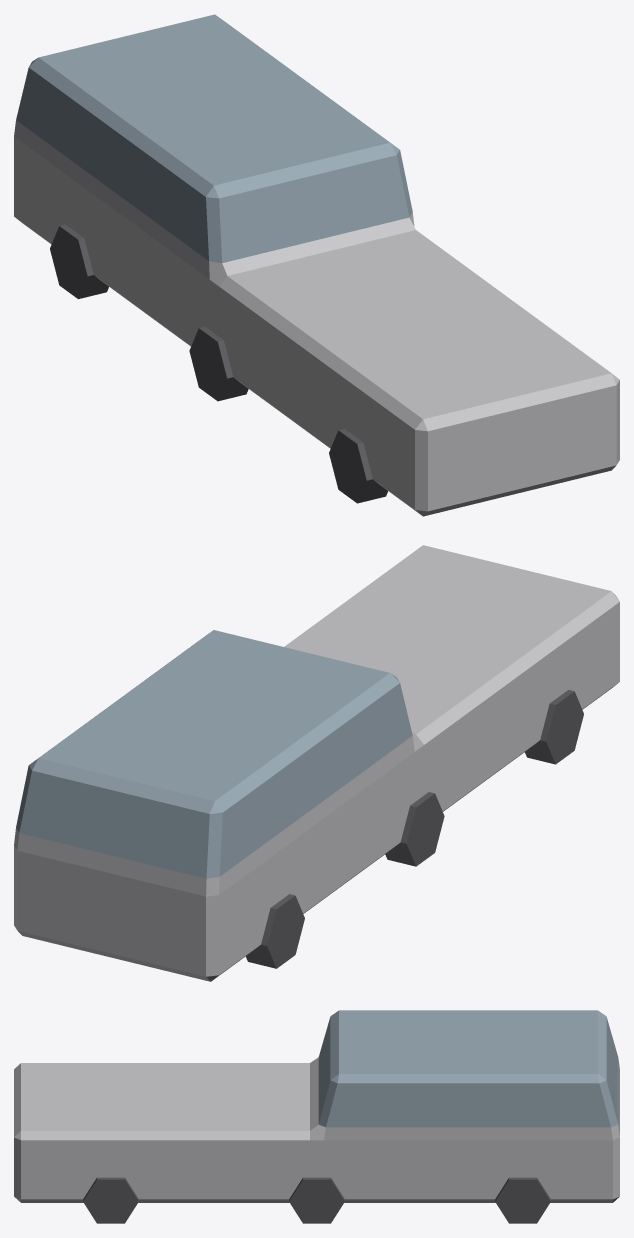
Rendered from veh_lorry.glb.
3 renders of one model, top to bottom at view 1: azimuth 30°, elevation 25°; view 2: azimuth 150°, elevation 25°; view 3: azimuth 270°, elevation 25°, orthographic. The views are drawn at different scales.
Visible parts, largest first — view 1: lorry; view 2: lorry; view 3: lorry.
Part boxes in pixels (x1,y1,x2,y2): lorry: (14,14,619,516); lorry: (14,545,619,981); lorry: (14,1010,619,1223).
Bounding box in the file's own units: 0.0795 × 0.0674 × 0.26.
